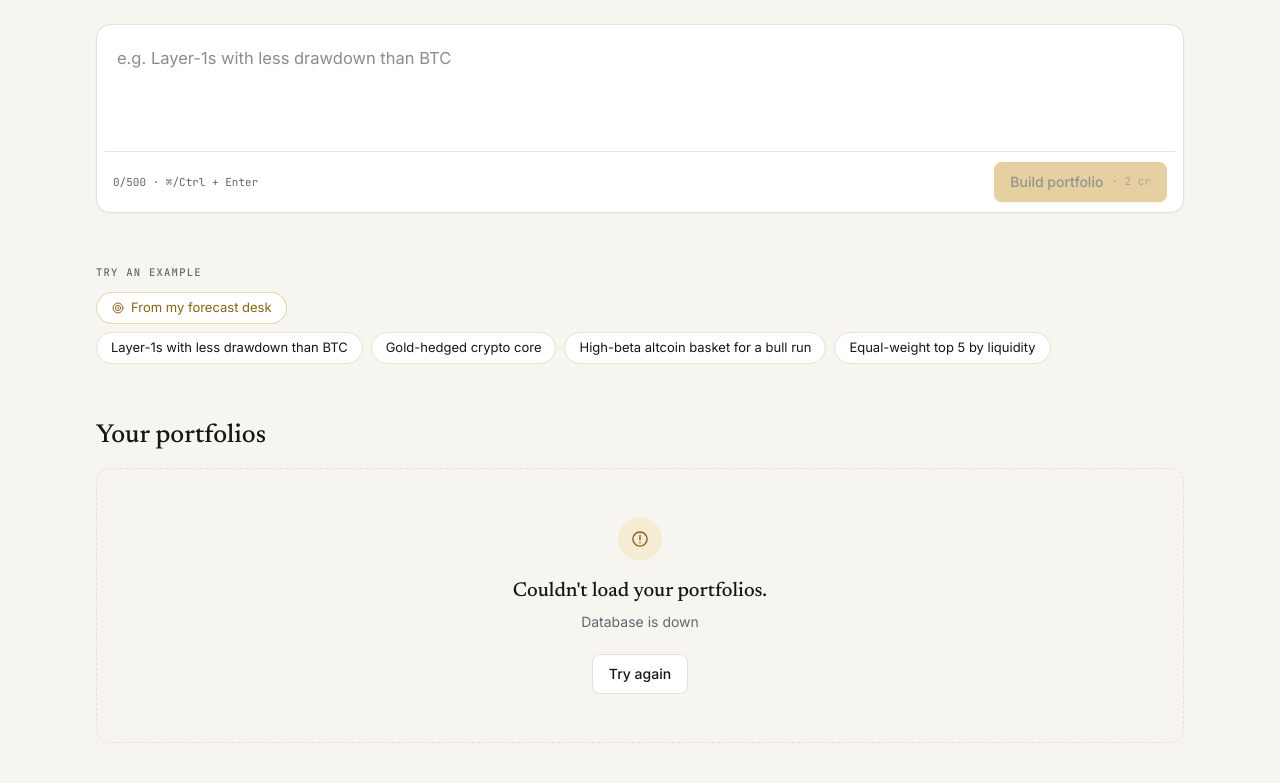
PortfoliosPage › has an empty state and a retry
The width and height of the screenshot is (1280, 783).
(page scrolled)
Expected: the heading "Couldn't load your portfolios." is shown, [513,577,767,605]
Click the button "Try again" at (640, 674), box [592,654,688,694]
(page scrolled)
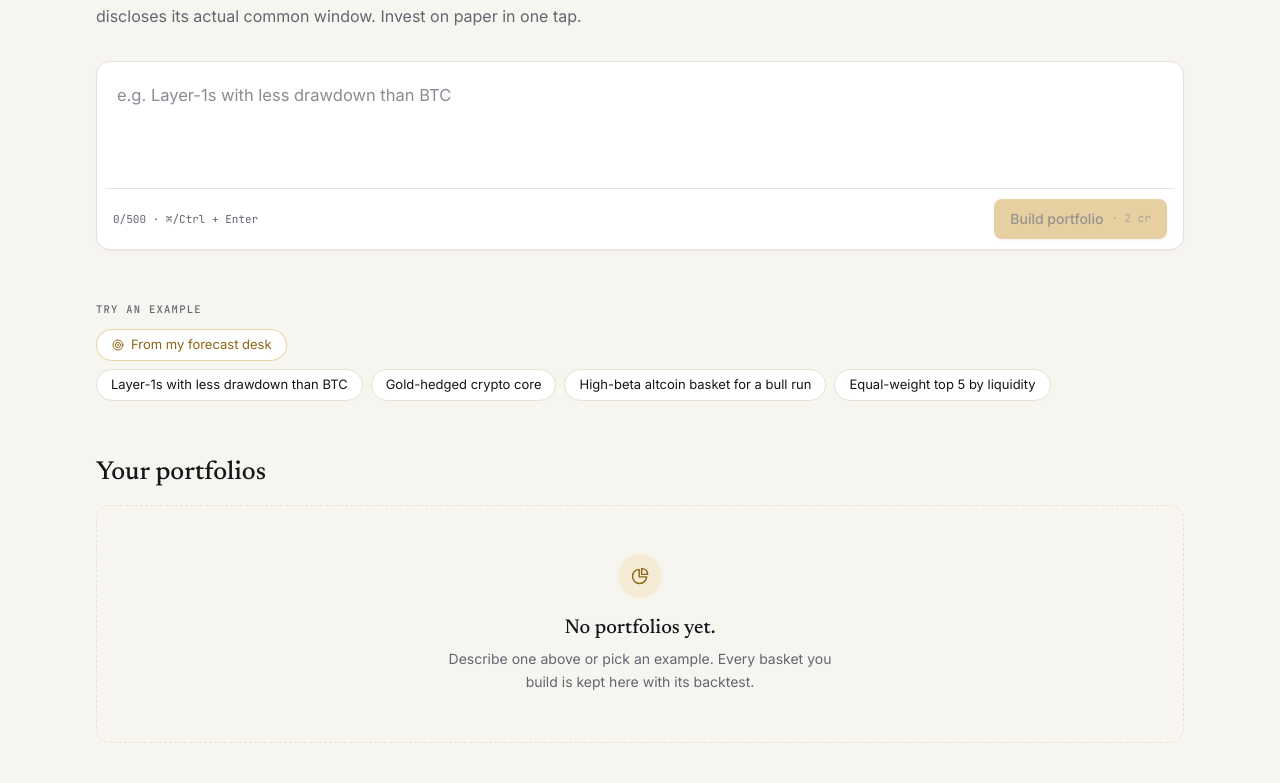
Now the heading "No portfolios yet." is shown, box [564,614,716,642]
